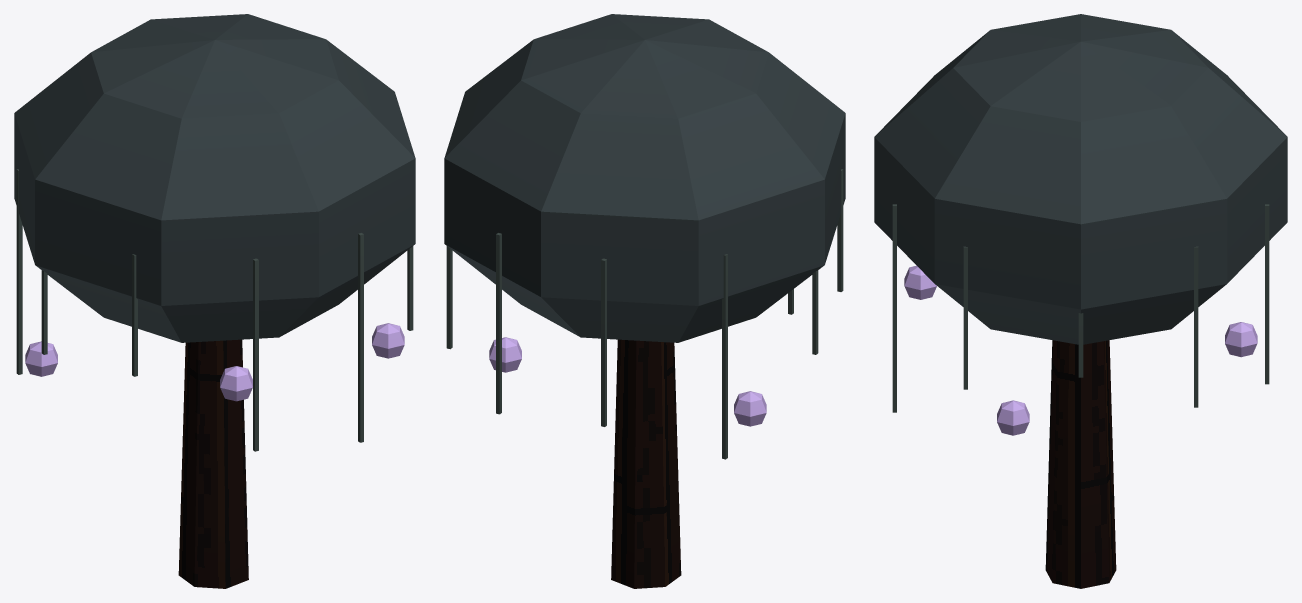
File: willow_orb.glb
3 renders of one model, left to right at view 1: azimuth 30°, elevation 25°; view 2: azimuth 150°, elevation 25°; view 3: azimuth 270°, elevation 25°, orthographic.
Parts seen in each view (by area): view 1: willow_orb; view 2: willow_orb; view 3: willow_orb.
Part boxes in pixels (x1,y1,x2,y2): willow_orb: [14, 14, 415, 588]; willow_orb: [444, 14, 845, 588]; willow_orb: [874, 14, 1287, 588].
Bounding box in the file's own units: 2.85 × 4.05 × 2.85.
Materials: 3 (1 with a texture image).
